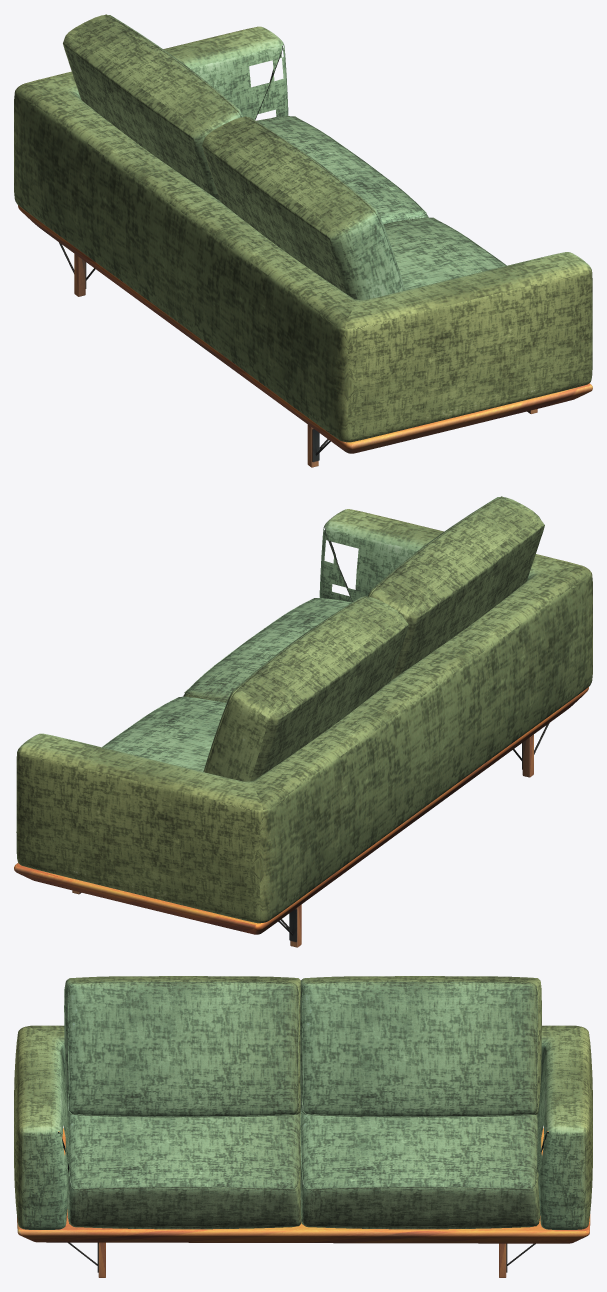
Rendered from regenerated.glb.
3 renders of one model, top to bottom at view 1: azimuth 30°, elevation 25°; view 2: azimuth 150°, elevation 25°; view 3: azimuth 270°, elevation 25°, orthographic. The views are drawn at different scales.
Visible parts, largest first — view 1: Sofa_1 Armrest, Seats1 Sofa_1, Sofa_1 Wood_Metal_Legs; view 2: Sofa_1 Armrest, Seats1 Sofa_1, Sofa_1 Wood_Metal_Legs; view 3: Seats1 Sofa_1, Sofa_1 Armrest, Sofa_1 Wood_Metal_Legs.
Boxes of the visible parts, x1,y1,x2,y2 form: Sofa_1 Armrest: (14,26,592,442); Seats1 Sofa_1: (63,14,506,300); Sofa_1 Wood_Metal_Legs: (18,205,592,467); Sofa_1 Armrest: (16,509,592,923); Seats1 Sofa_1: (102,496,544,781); Sofa_1 Wood_Metal_Legs: (14,687,588,947); Seats1 Sofa_1: (64,976,541,1229); Sofa_1 Armrest: (14,1025,592,1229); Sofa_1 Wood_Metal_Legs: (17,1128,590,1277).
Size of the model in its own units: 104 by 98.97 by 233.
Materials: 3 (3 with a texture image).
